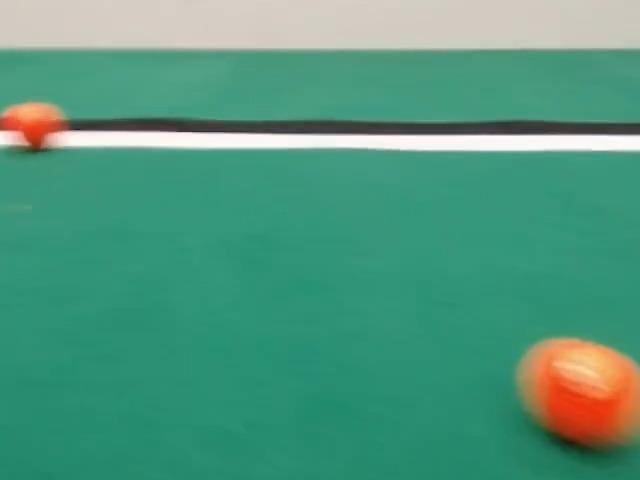Ball: (516, 338, 639, 448), (0, 102, 67, 149)
